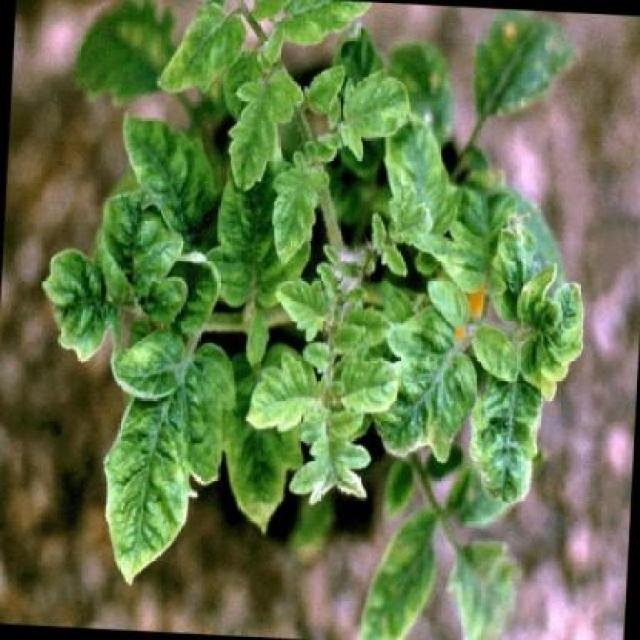Healthy Leaf: (91, 323, 226, 602), (375, 306, 497, 480), (458, 362, 562, 509), (222, 55, 306, 203), (156, 0, 252, 102), (380, 107, 458, 231), (246, 344, 332, 451), (330, 64, 418, 164), (325, 338, 409, 429)
